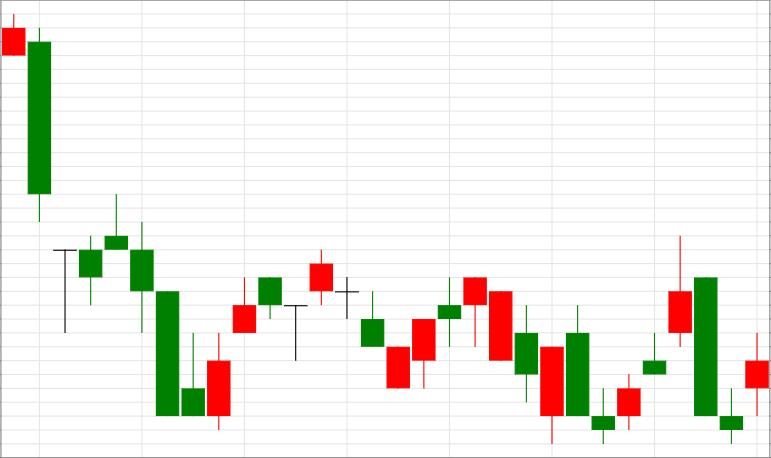bullish_engulfing_rise: (104, 194, 231, 432)
hanging_man_fall: (387, 278, 487, 389)
inverse_hammer_rise: (104, 194, 205, 416)
shooting_star_fall: (592, 236, 693, 444)
